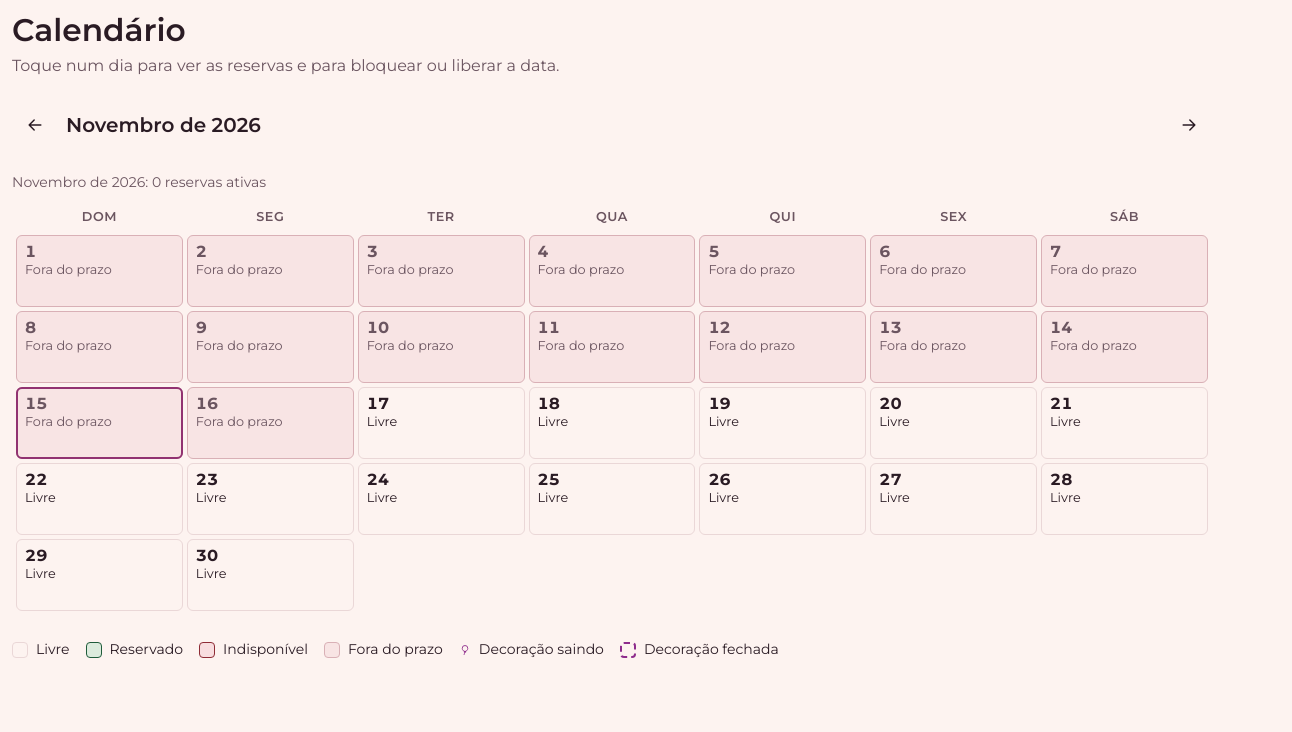
Test: CalendarPage › oferece voltar para hoje só quando saiu do mês atual
Expected: the heading "Novembro de 2026" is shown, x1=66 y1=112 x2=261 y2=136
Expected: the button "Voltar para hoje" is not shown
Click the button named "Mês seguinte". click: click(1189, 125)
box: x1=1166 y1=102 x2=1212 y2=148
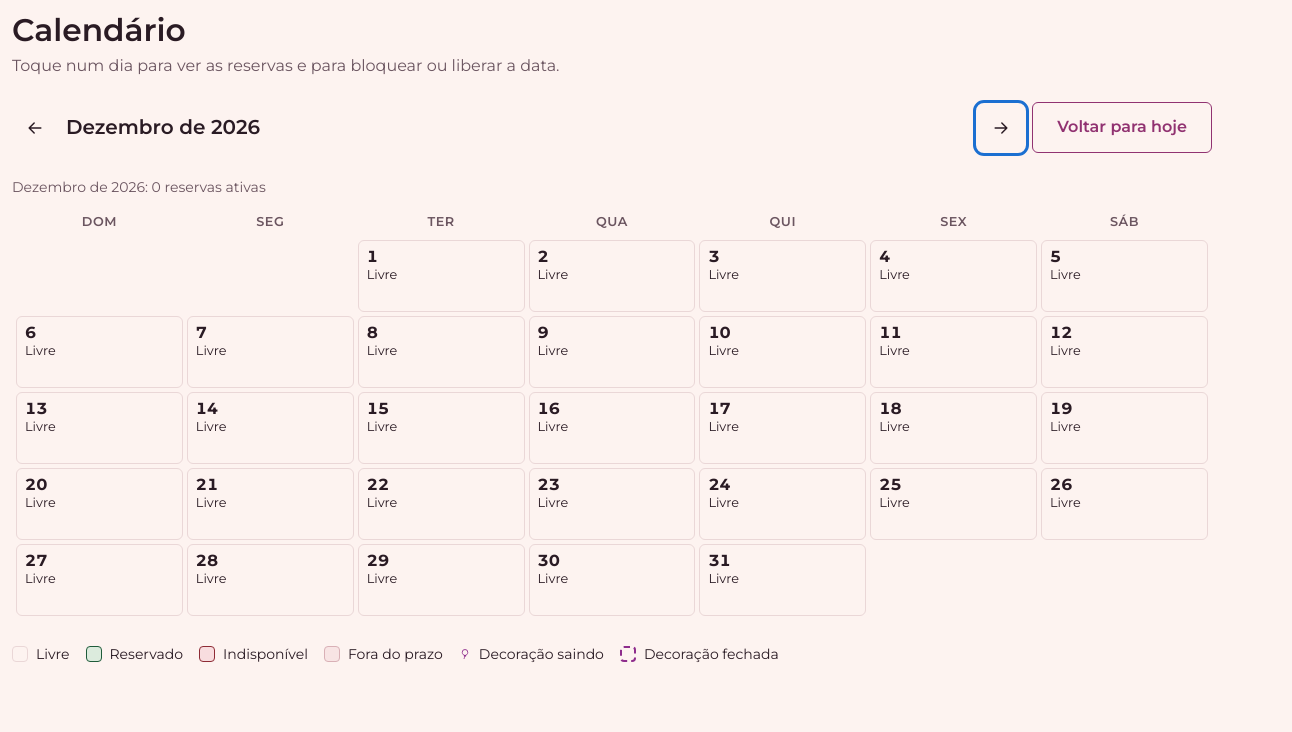
Expected: the button "Voltar para hoje" is shown, x1=1032 y1=102 x2=1212 y2=153
